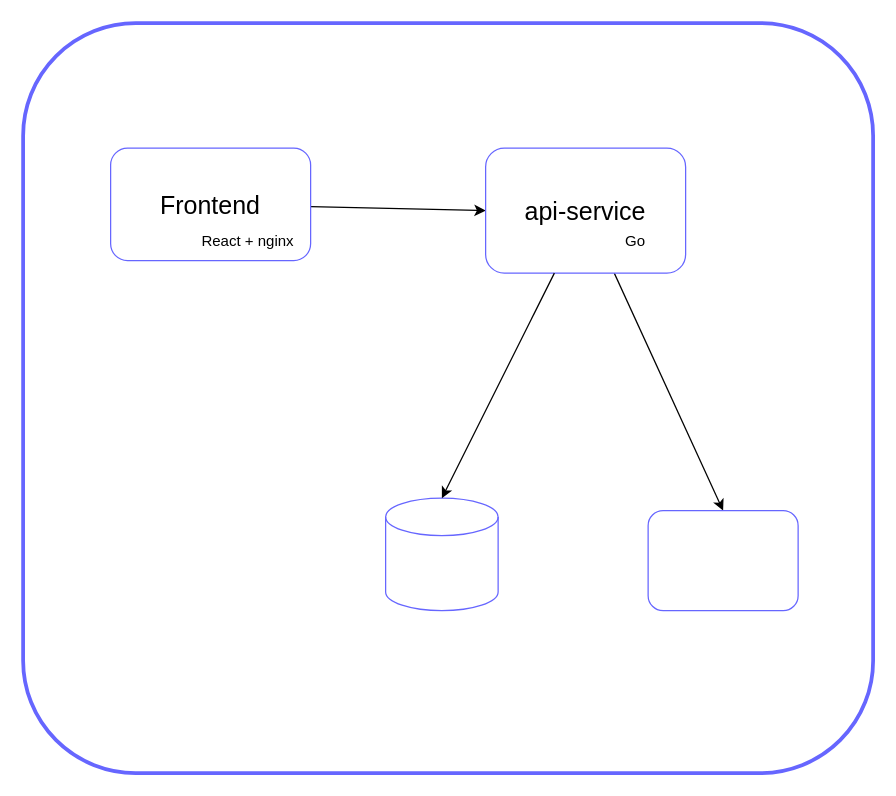
This 896x796 diagram has some shape labels left out. The box of each missing label's shape, as (x1, y1, x2, y2) in pixels:
postgres: (384, 497, 498, 611)
Razorpay: (647, 509, 798, 611)
